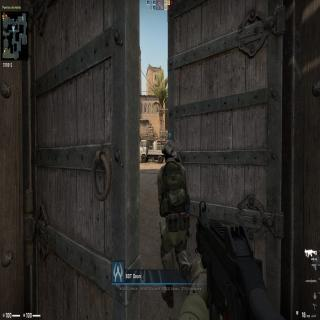CT-Head: (160, 139, 180, 164)
